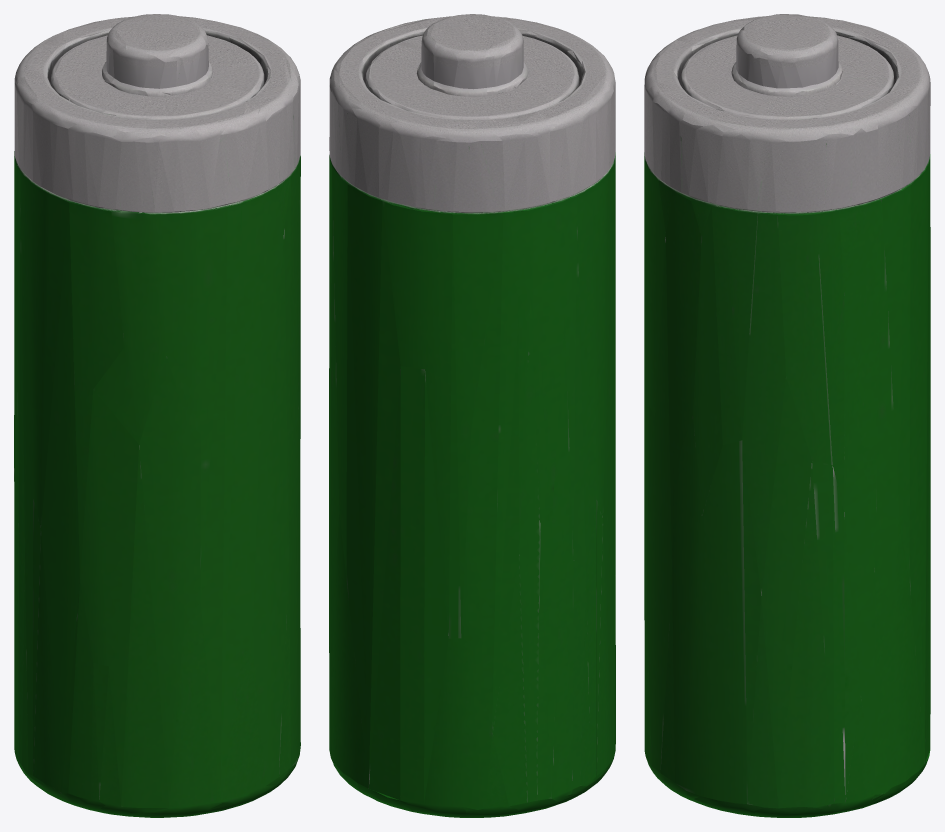
File: battery.glb
3 renders of one model, left to right at view 1: azimuth 30°, elevation 25°; view 2: azimuth 150°, elevation 25°; view 3: azimuth 270°, elevation 25°, orthographic.
Visible parts, largest first — view 1: output_unwrapped; view 2: output_unwrapped; view 3: output_unwrapped.
Part boxes in pixels (x1,y1,x2,y2): output_unwrapped: (14, 14, 300, 817); output_unwrapped: (329, 14, 615, 817); output_unwrapped: (644, 14, 930, 817).
Bounding box in the file's own units: 0.6749 × 1.9 × 0.6745.
1 material, 1 textured.
